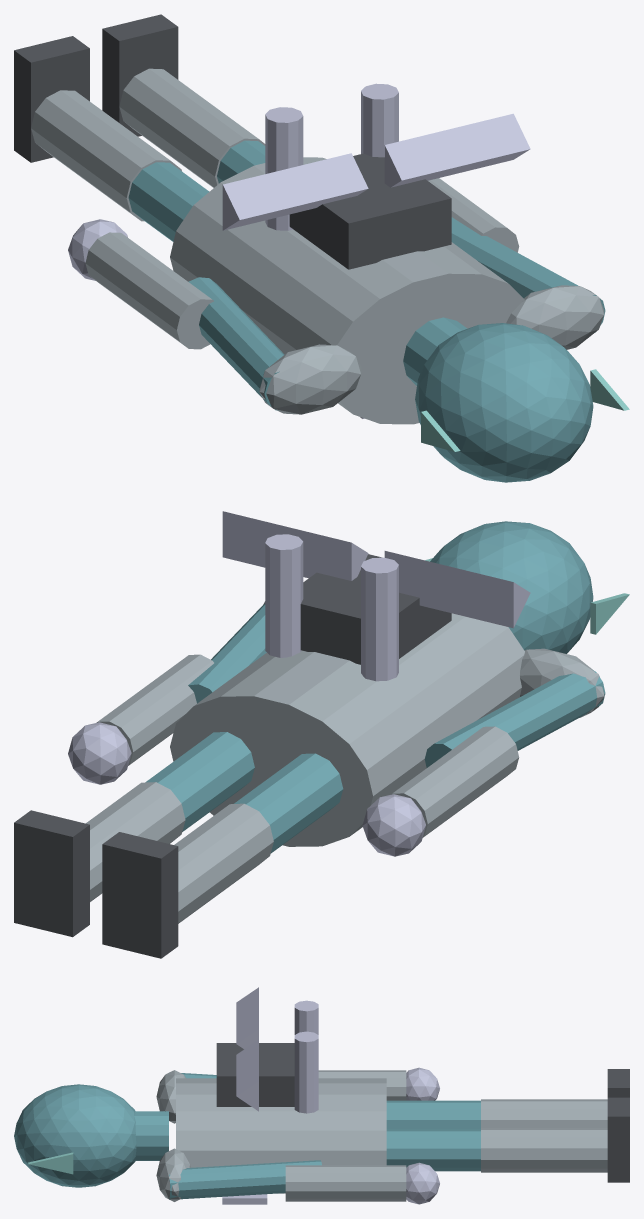
Rendered from SWN-002_kesh_anovar.glb.
The picture shows the model from 3 angles, top to bottom: view 1: azimuth 30°, elevation 25°; view 2: azimuth 150°, elevation 25°; view 3: azimuth 270°, elevation 25°; orthographic projection. The views are drawn at different scales.
Visible parts, largest first — view 1: body_spine, head, back_thruster_pack, greave_-1, greave_1, forearm_gauntlet_-1, zero_g_winglet_-1, zero_g_winglet_1, boot_-1, shoulder_plate_-1, boot_1, upper_arm_-1 (+11 smaller); view 2: body_spine, head, boot_-1, boot_1, greave_-1, back_thruster_pack, forearm_gauntlet_-1, zero_g_winglet_-1, upper_arm_-1, thigh_1, thigh_-1, forearm_gauntlet_1 (+9 smaller); view 3: body_spine, head, greave_1, forearm_gauntlet_1, thigh_1, back_thruster_pack, greave_-1, upper_arm_1, thigh_-1, aether_thruster_1, boot_1, neck (+11 smaller).
Part boxes in pixels (<box>): body_spine: <box>170,157,524,424</box>; head: <box>415,323,593,482</box>; back_thruster_pack: <box>289,153,451,269</box>; greave_-1: <box>31,90,181,221</box>; greave_1: <box>119,68,265,187</box>; forearm_gauntlet_-1: <box>85,232,213,349</box>; zero_g_winglet_-1: <box>222,153,368,230</box>; zero_g_winglet_1: <box>384,113,530,187</box>; boot_-1: <box>14,36,89,162</box>; shoulder_plate_-1: <box>259,344,361,414</box>; boot_1: <box>102,14,178,136</box>; upper_arm_-1: <box>188,277,284,410</box>; body_spine: <box>170,613,524,846</box>; head: <box>430,521,593,653</box>; boot_-1: <box>102,832,178,958</box>; boot_1: <box>14,810,89,937</box>; greave_-1: <box>174,803,273,923</box>; back_thruster_pack: <box>300,554,451,664</box>; forearm_gauntlet_-1: <box>391,726,519,837</box>; zero_g_winglet_-1: <box>384,551,530,628</box>; upper_arm_-1: <box>424,670,605,767</box>; thigh_1: <box>145,732,254,831</box>; thigh_-1: <box>234,753,343,853</box>; forearm_gauntlet_1: <box>96,654,213,765</box>; body_spine: <box>176,1078,386,1193</box>; head: <box>14,1084,136,1187</box>; greave_1: <box>481,1128,607,1172</box>; forearm_gauntlet_1: <box>285,1165,406,1201</box>; thigh_1: <box>386,1129,480,1171</box>; back_thruster_pack: <box>216,1043,294,1106</box>; greave_-1: <box>481,1099,607,1127</box>; upper_arm_1: <box>169,1160,321,1199</box>; thigh_-1: <box>386,1100,480,1129</box>; aether_thruster_1: <box>294,1031,318,1113</box>; boot_1: <box>607,1097,629,1182</box>; neck: <box>134,1111,168,1160</box>.
Size of the model in its own units: 0.95 by 0.6775 by 2.19.
